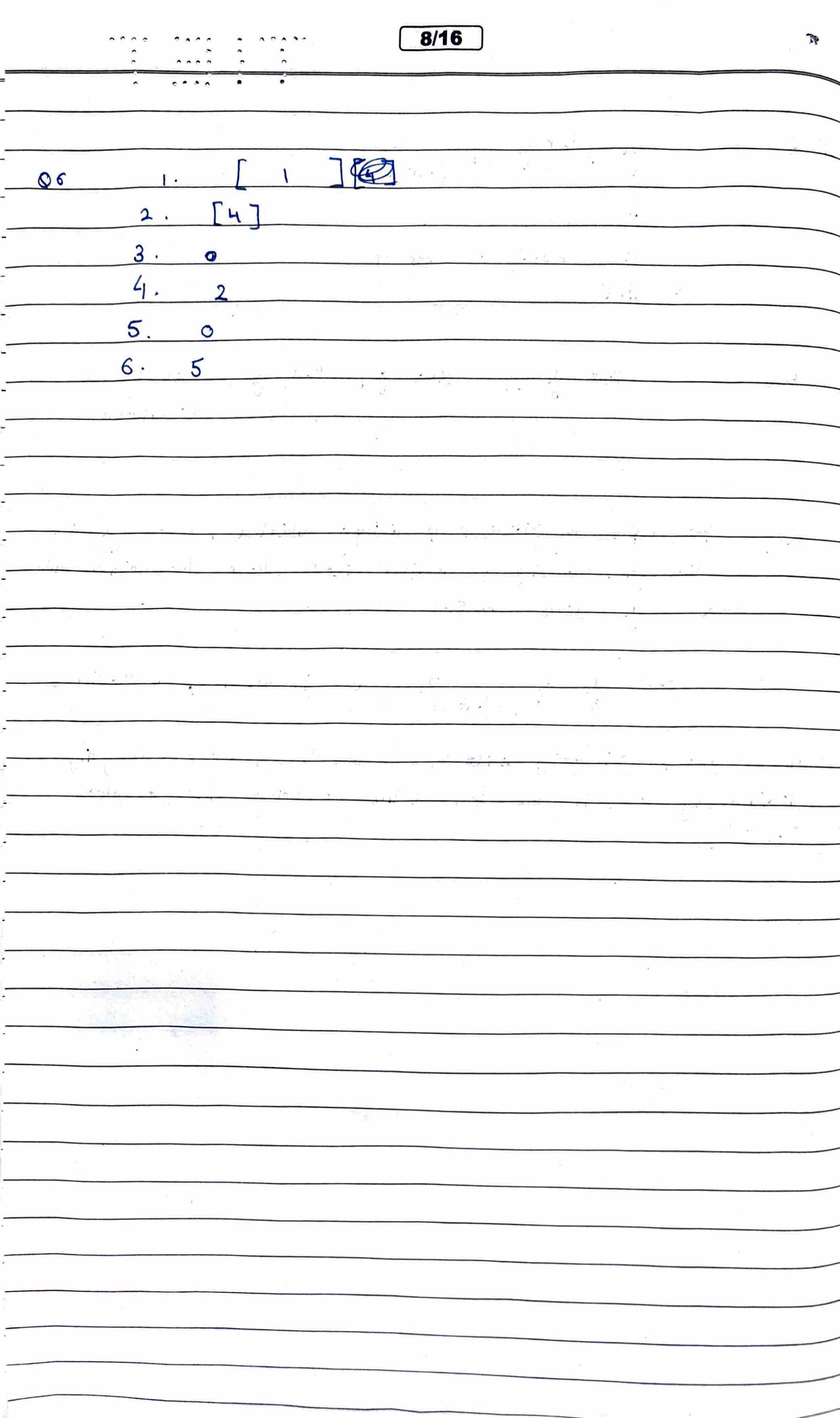cuttings: (348, 156, 398, 190)
